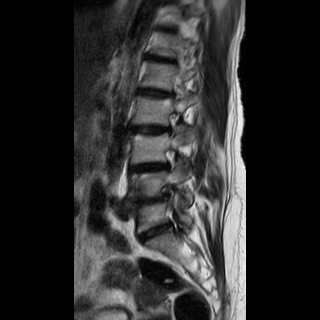LFS0: (158, 142, 180, 177)
